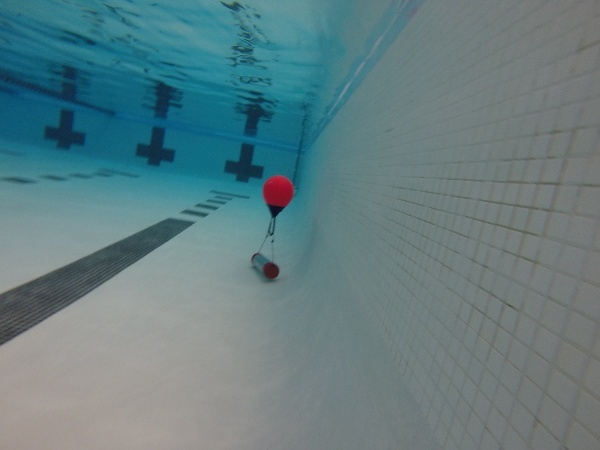buoy_red: (258, 173, 296, 219)
